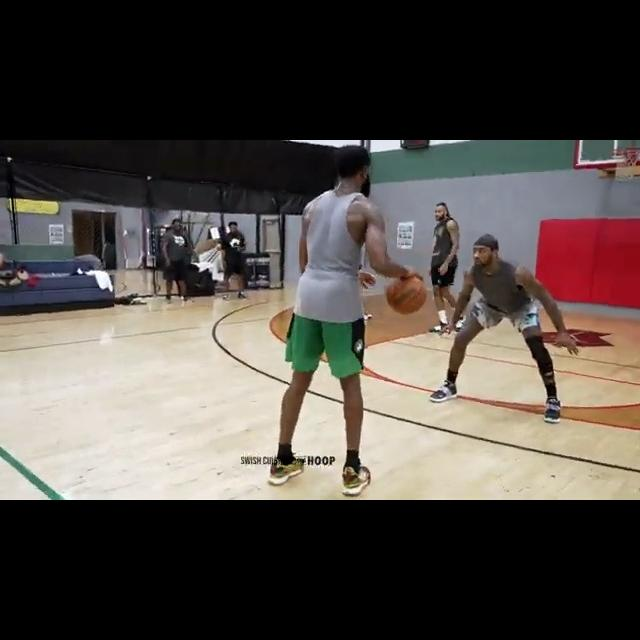basketball: (385, 273, 428, 316)
person: (267, 144, 387, 497), (429, 232, 580, 425), (428, 202, 468, 335), (158, 218, 196, 305), (217, 221, 253, 303)
